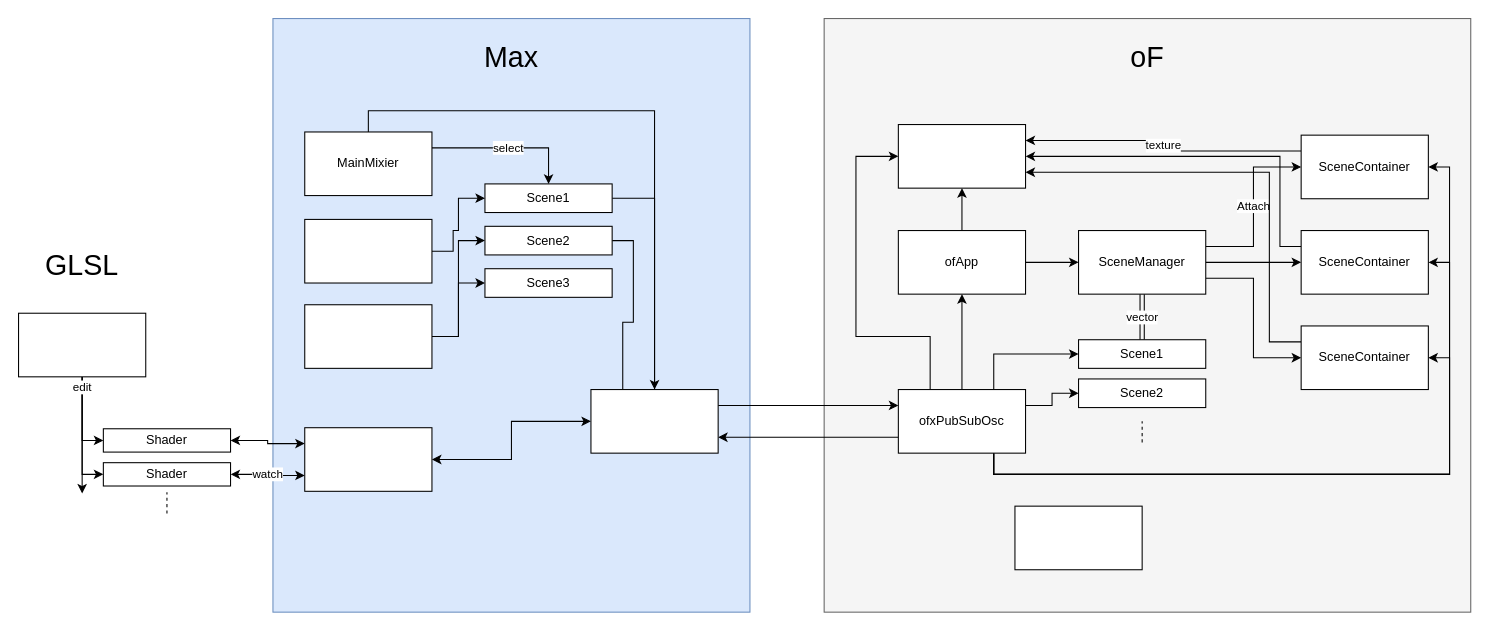
Image size: 1489x631. Some labels were removed from this diagram. Here are the shapes that lost their labels. From the top down, the box of each, then its label:
(897, 123, 1026, 188): PostEffect
(304, 218, 432, 283): Lyrics (Node for Max)
(17, 312, 146, 377): VSCode
(304, 304, 432, 368): Sound (AttackDetection)
(590, 388, 718, 453): udpsend/receive
(304, 427, 432, 491): ShaderWatcher (Node for Max)
(1014, 505, 1142, 570): CodePlotter
